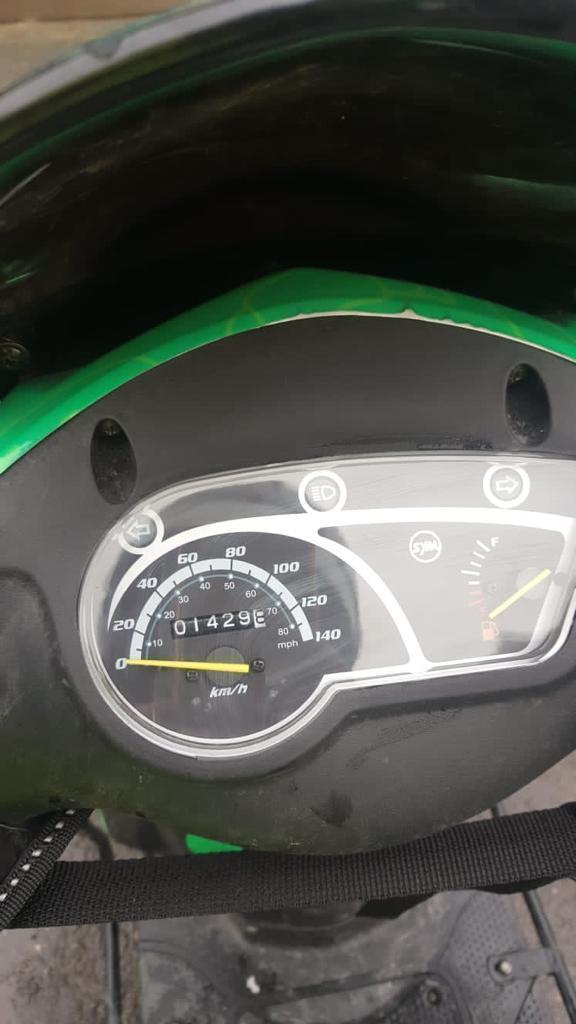0: (173, 619, 186, 636), (169, 609, 176, 618)
1: (192, 614, 201, 636)
2: (222, 611, 236, 629)
4: (205, 613, 220, 631)
8: (254, 609, 266, 625)
9: (237, 609, 252, 627)
odometer: (169, 606, 268, 640)
